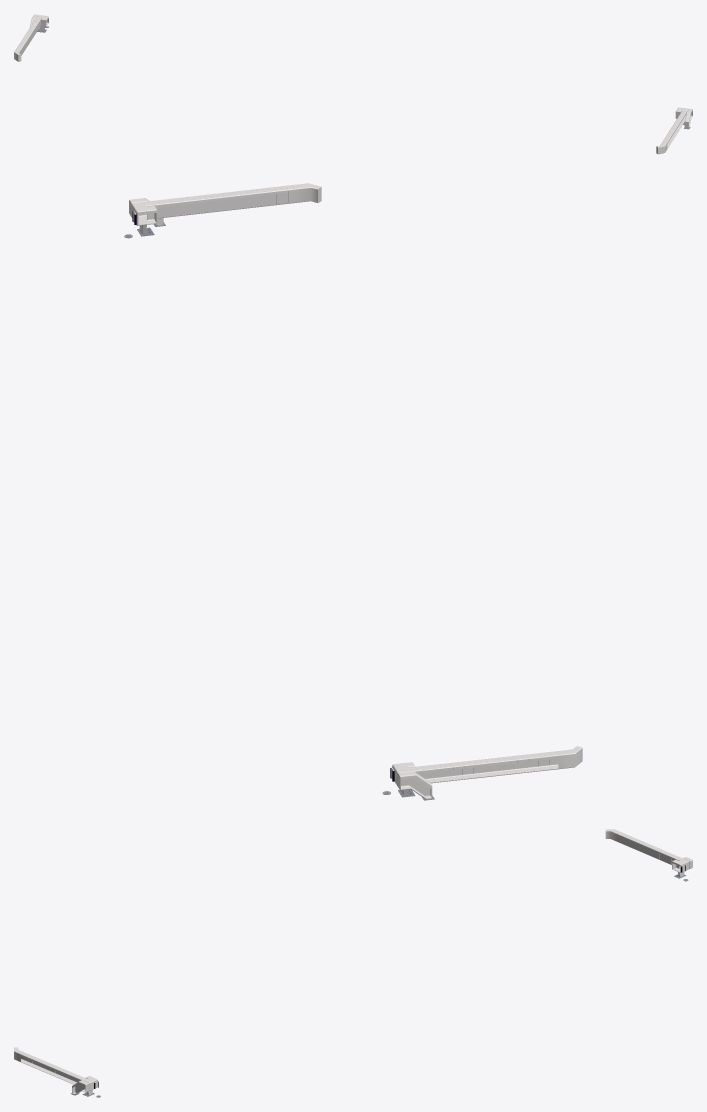
The model's file is Corridor_TB.fbx.
3 renders of one model, top to bottom at view 1: azimuth 30°, elevation 25°; view 2: azimuth 150°, elevation 25°; view 3: azimuth 270°, elevation 25°, orthographic. The views are drawn at different scales.
Parts seen in each view (by area): view 1: Airport:Corridor_TB; view 2: Airport:Corridor_TB; view 3: Airport:Corridor_TB.
Part boxes in pixels (x1,y1,x2,y2): Airport:Corridor_TB: (14,14,692,154); Airport:Corridor_TB: (124,183,582,800); Airport:Corridor_TB: (14,829,692,1097).
Bounding box in the file's own units: 32499 × 898 × 36519.
Materials: 1 (1 with a texture image).
